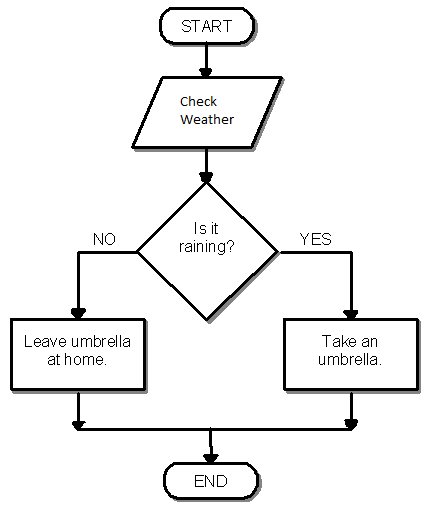arrow: (63, 425, 220, 466), (275, 248, 359, 321), (201, 425, 345, 467), (66, 248, 145, 319), (200, 427, 220, 465), (199, 40, 215, 80), (345, 389, 359, 431), (70, 391, 83, 433), (199, 147, 213, 185)
data: (129, 74, 284, 156)
decision: (136, 183, 279, 323)
process: (280, 316, 423, 398), (6, 316, 149, 395)
terminator: (157, 4, 260, 49), (160, 461, 264, 504)
text: (19, 331, 133, 369), (316, 331, 380, 370), (176, 219, 236, 259), (175, 94, 235, 129), (177, 16, 234, 34), (192, 472, 229, 491), (296, 231, 333, 247), (88, 229, 119, 247)
